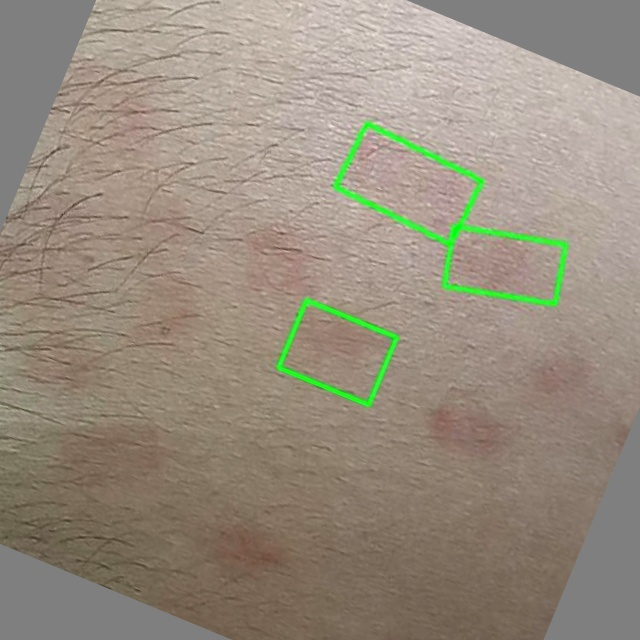Tinea Corporis: (335, 122, 481, 243), (278, 300, 396, 405), (443, 225, 565, 304)
